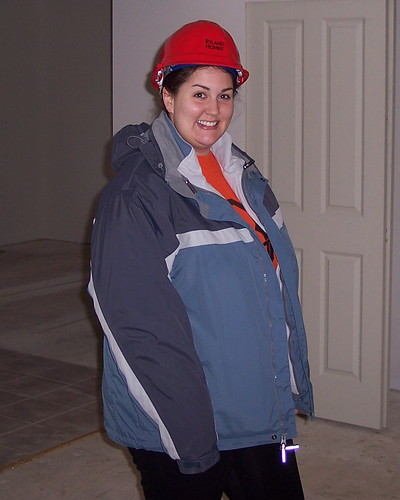person hardhat: (83, 20, 316, 500)
